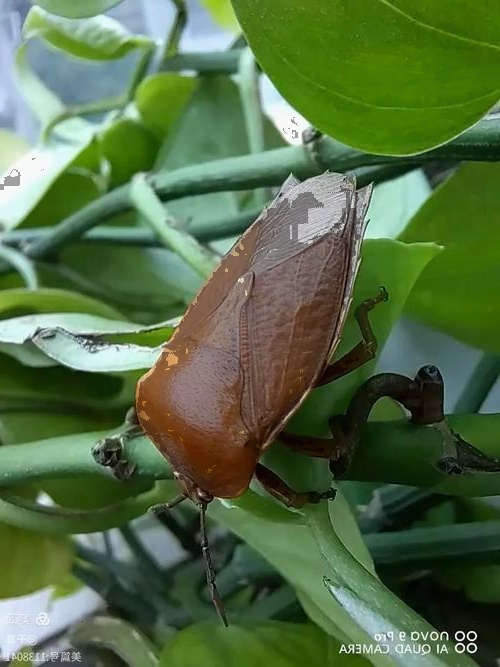Stink_Bug: (131, 189, 378, 490)
